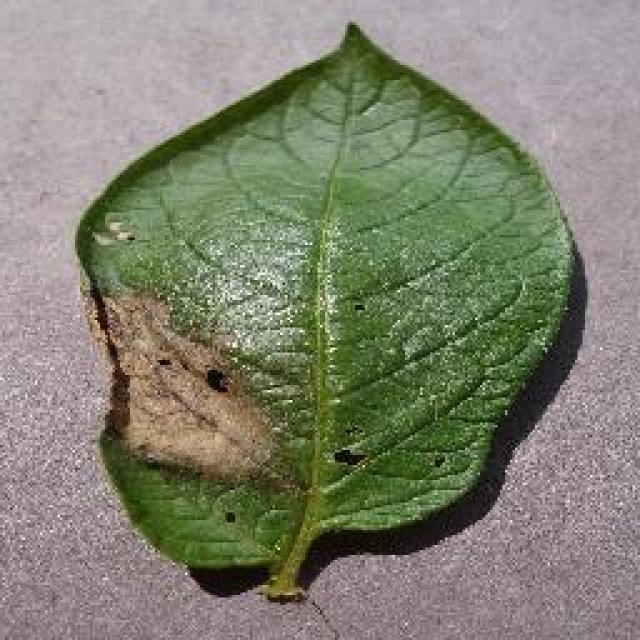late_blight: (70, 18, 582, 600)
